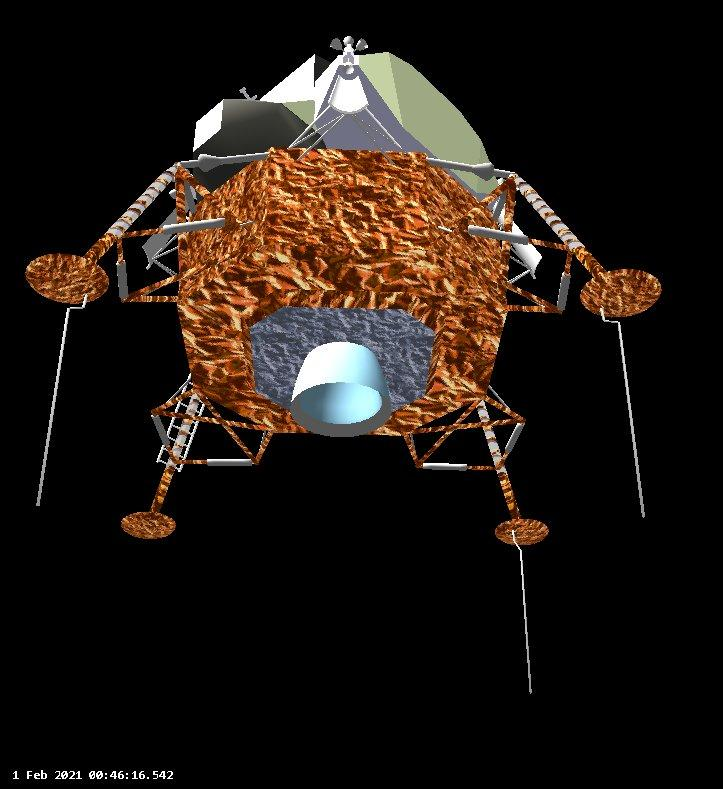antenna: (574, 266, 665, 321), (23, 250, 112, 305), (118, 509, 178, 543), (492, 518, 552, 549)
body: (172, 53, 516, 435)
thruster: (288, 337, 385, 428), (328, 33, 345, 53), (353, 37, 369, 53), (342, 34, 356, 52), (342, 56, 355, 75), (168, 186, 182, 201)
